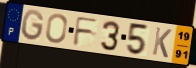3: (100, 20, 121, 52)
5: (124, 22, 152, 57)
F: (72, 16, 100, 47)
G: (21, 8, 46, 42)
K: (151, 26, 173, 60)
O: (44, 13, 69, 45)
